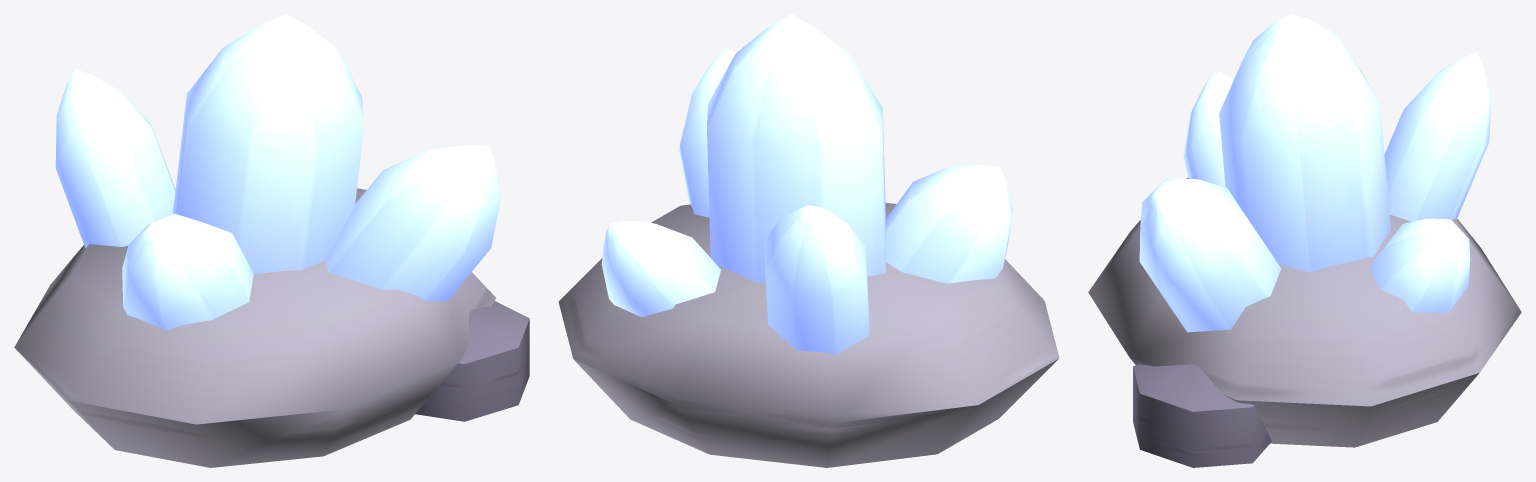
Rendered from cave_crystal.glb.
3 views of the same model, side by side, from view 1: azimuth 30°, elevation 25°; view 2: azimuth 150°, elevation 25°; view 3: azimuth 270°, elevation 25° (orthographic). The views are drawn at different scales.
Parts seen in each view (by area): view 1: cave_crystal; view 2: cave_crystal; view 3: cave_crystal.
Part boxes in pixels (left/top/right/bottom): cave_crystal: left=14, top=14, right=529, bottom=467; cave_crystal: left=558, top=14, right=1059, bottom=467; cave_crystal: left=1088, top=14, right=1521, bottom=467.
Bounding box in the file's own units: 1.43 × 1.24 × 1.26.
2 materials, 2 textured.
